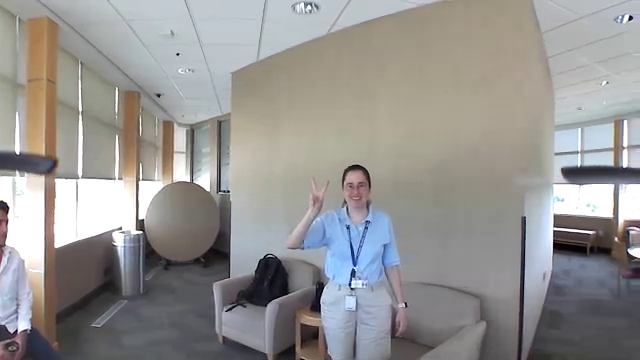peace: (304, 175, 333, 222)
